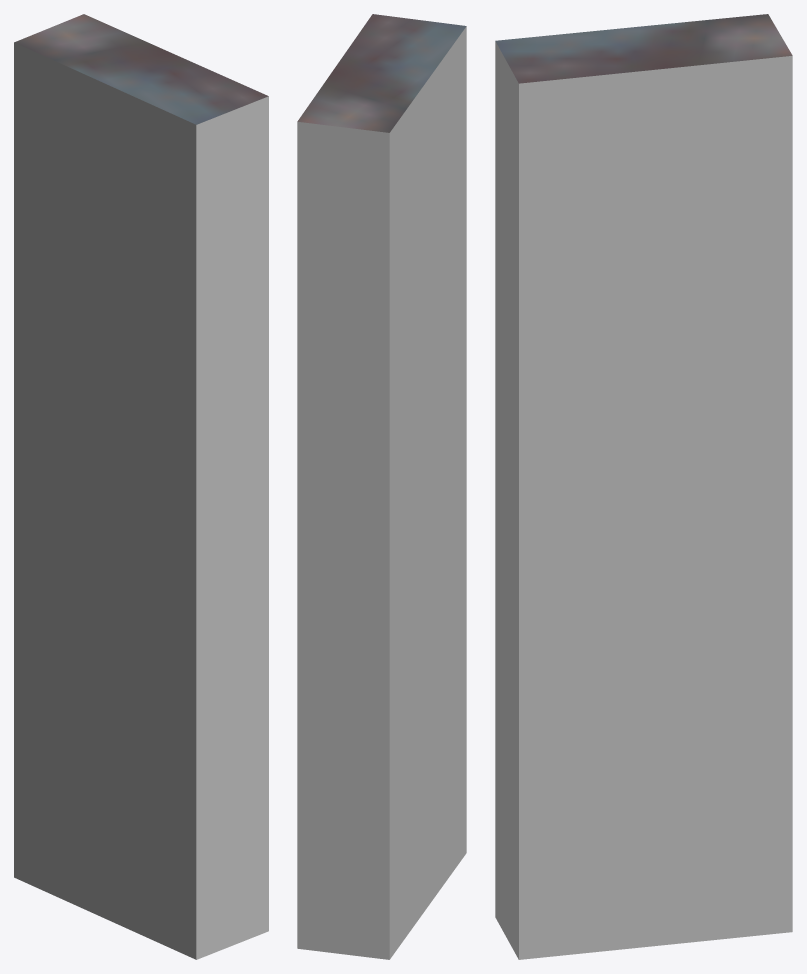
File: DEBW_0010007THW3.gltf
3 views of the same model, side by side, from view 1: azimuth 30°, elevation 25°; view 2: azimuth 150°, elevation 25°; view 3: azimuth 270°, elevation 25° (orthographic). The views are drawn at different scales.
Visible parts, largest first — view 1: Z_UP; view 2: Z_UP; view 3: Z_UP.
Boxes of the visible parts, x1,y1,x2,y2 form: Z_UP: (14,14,268,959); Z_UP: (297,14,466,959); Z_UP: (495,14,792,959).
Bounding box in the file's own units: 1.95 × 11.44 × 3.52.
Materials: 2 (1 with a texture image).
